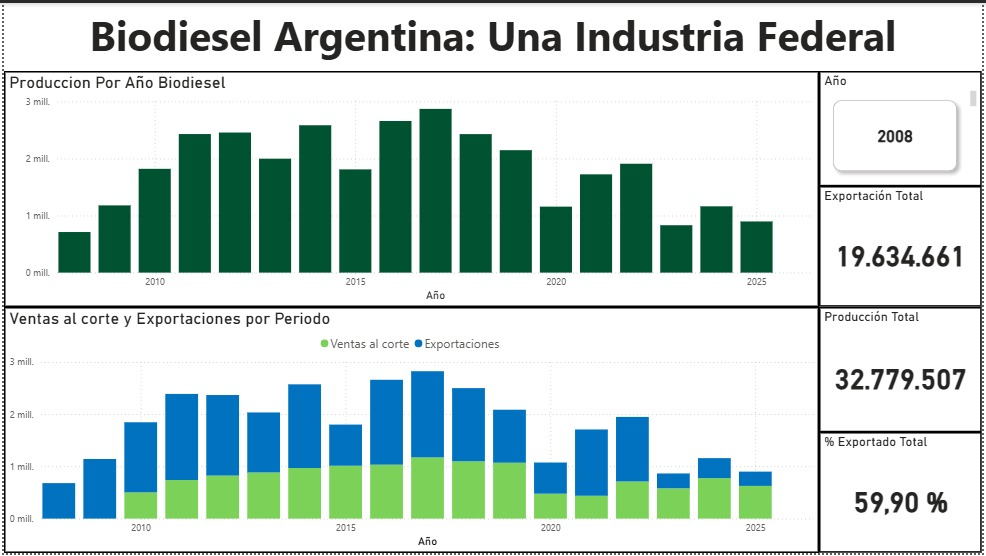

What the dashboard file says about the page in this screenshot:
{"tool":"powerbi","page":{"name":"Biodiesel Anual","canvas":[1280,720],"ordinal":0},"visuals":[{"type":"clusteredColumnChart","title":"Produccion Por Año Biodiesel","fields":{"Category":["RESUMEN BIODIESEL ANUAL.PERÍODO"],"Y":["Sum(RESUMEN BIODIESEL ANUAL.PRODUCCIÓN)"]},"box":[0,89,1066.9,308.9],"z":0},{"type":"textbox","box":[0,0,1280.3,89],"z":1000},{"type":"advancedSlicerVisual","title":"Año","fields":{"Values":["RESUMEN BIODIESEL ANUAL.PERÍODO"]},"box":[1066.9,89,213.4,150.5],"z":2000},{"type":"columnChart","fields":{"Y":["Sum(RESUMEN BIODIESEL ANUAL.VENTAS AL CORTE)","Sum(RESUMEN BIODIESEL ANUAL.EXPORTACIONES)"],"Category":["RESUMEN BIODIESEL ANUAL.PERÍODO"]},"box":[0,398,1066.9,322],"z":3000},{"type":"card","fields":{"Values":["Sum(RESUMEN BIODIESEL ANUAL.PRODUCCIÓN)"]},"box":[1066.7,397.8,213.3,163.8],"z":4000},{"type":"card","fields":{"Values":["Sum(RESUMEN BIODIESEL ANUAL.EXPORTACIONES)"]},"box":[1066.7,239.5,213.3,158.3],"z":5000},{"type":"card","fields":{"Values":["RESUMEN BIODIESEL ANUAL.Medida"]},"box":[1066.7,561.5,213.3,158.3],"z":6000}]}

Visuals, with their boxes in screenshot pixels (x1, y1, x2, y2), scaled from the page's 1280x720 canvas onto the 986x556 screenshot:
"Produccion Por Año Biodiesel" clusteredColumnChart: [x1=0, y1=69, x2=822, y2=307]
textbox: [x1=0, y1=0, x2=985, y2=69]
"Año" advancedSlicerVisual: [x1=822, y1=69, x2=985, y2=185]
columnChart - Sum(RESUMEN BIODIESEL ANUAL.VENTAS AL CORTE) x Sum(RESUMEN BIODIESEL ANUAL.EXPORTACIONES): [x1=0, y1=307, x2=822, y2=555]
card - Sum(RESUMEN BIODIESEL ANUAL.PRODUCCIÓN): [x1=822, y1=307, x2=985, y2=434]
card - Sum(RESUMEN BIODIESEL ANUAL.EXPORTACIONES): [x1=822, y1=185, x2=985, y2=307]
card - RESUMEN BIODIESEL ANUAL.Medida: [x1=822, y1=434, x2=985, y2=555]
